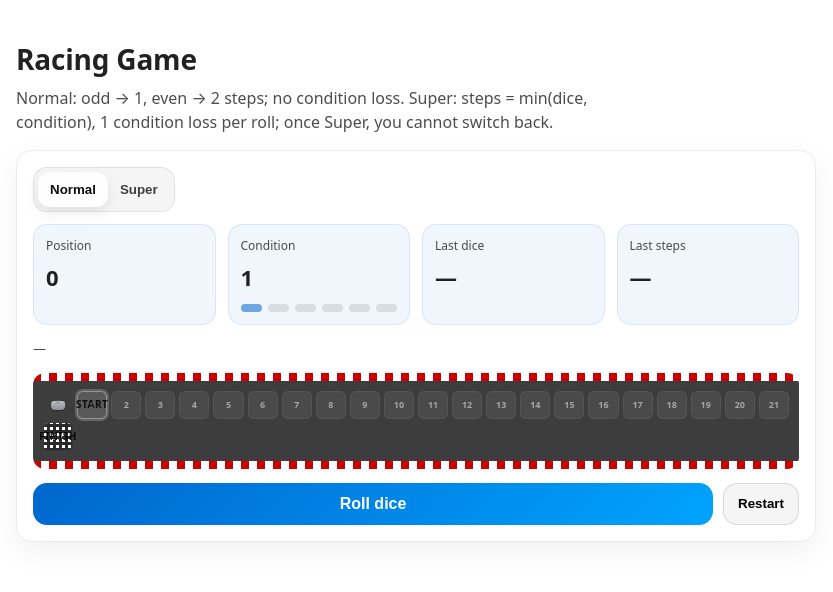
Test case: RacingGame › shows game over state and disables rolling in super mode
Click the button with test id "mode-super" at (139, 190), box x1=108 y1=172 x2=170 y2=207
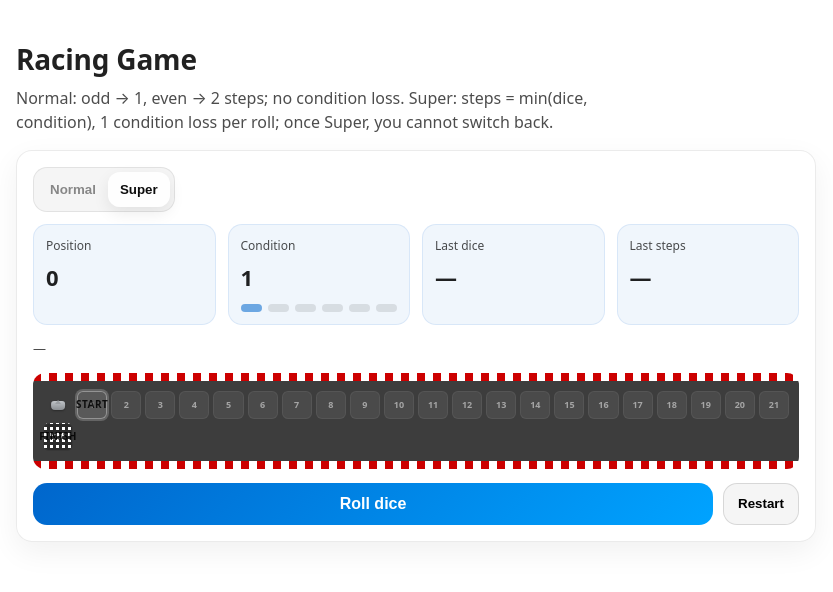
Click the button with test id "roll" at (373, 504), box x1=33 y1=483 x2=713 y2=525
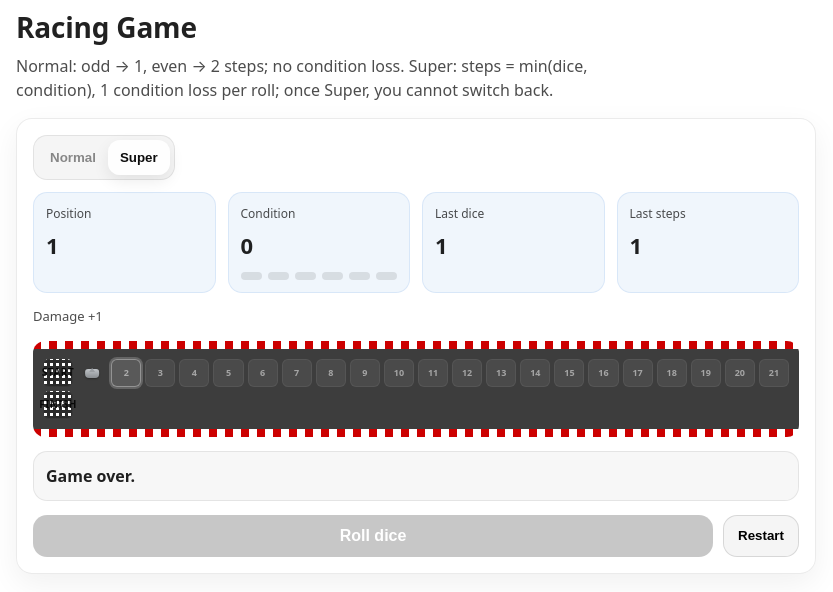
Expected: the element with test id "result" shows "Game over", x1=46 y1=465 x2=135 y2=487
Expected: the button with test id "roll" is disabled, x1=33 y1=515 x2=713 y2=557
